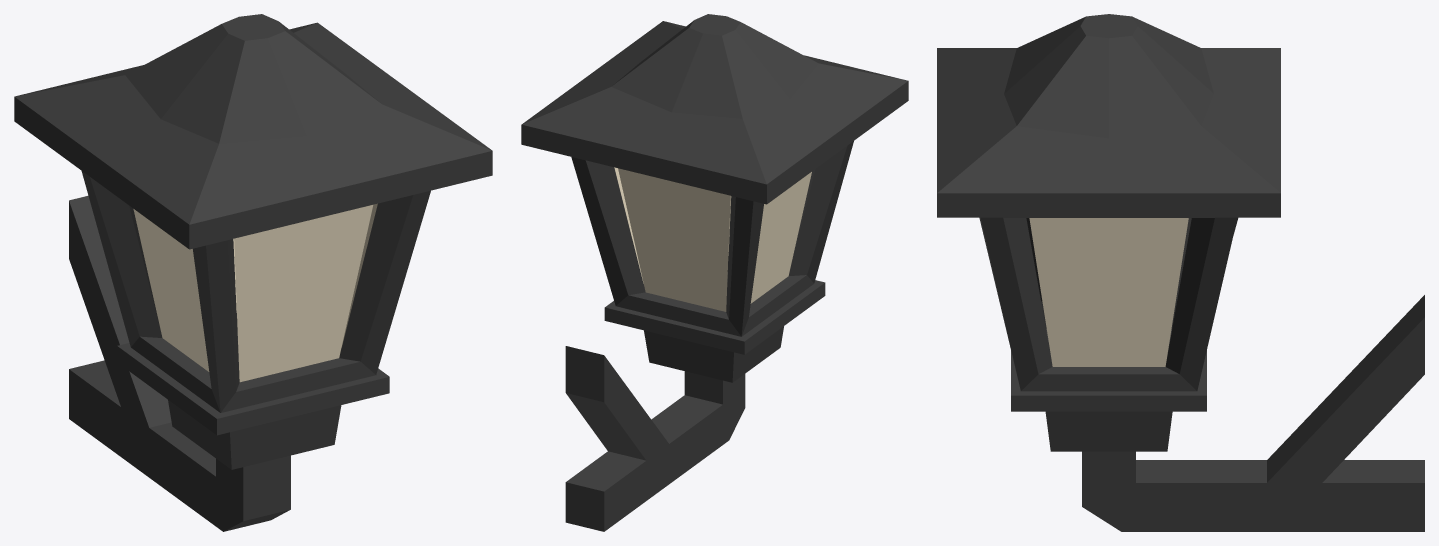
Rendered from fantasy_lamp_wall_1.fbx.
3 views of the same model, side by side, from view 1: azimuth 30°, elevation 25°; view 2: azimuth 150°, elevation 25°; view 3: azimuth 270°, elevation 25° (orthographic). The views are drawn at different scales.
Parts seen in each view (by area): view 1: Cube.049, Cube.050; view 2: Cube.049, Cube.050; view 3: Cube.049, Cube.050.
Boxes of the visible parts, box(x1,y1,x2,y2) form: Cube.049: box(14, 14, 492, 531); Cube.050: box(133, 203, 377, 382); Cube.049: box(521, 14, 908, 531); Cube.050: box(614, 167, 811, 311); Cube.049: box(937, 14, 1424, 531); Cube.050: box(1029, 218, 1188, 366).
Size of the model in its own units: 43.58 by 69.1 by 61.79.
